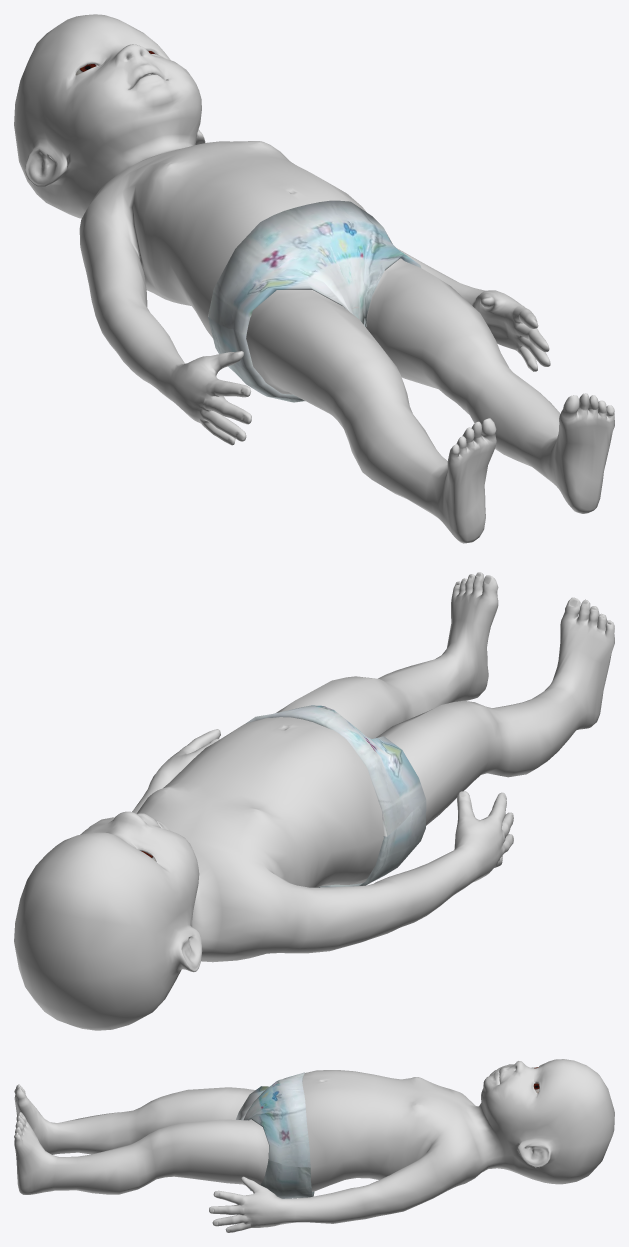
Rendered from Kid.fbx.
3 views of the same model, one above another, from view 1: azimuth 30°, elevation 25°; view 2: azimuth 150°, elevation 25°; view 3: azimuth 270°, elevation 25° (orthographic). The views are drawn at different scales.
Parts seen in each view (by area): view 1: high-polyMesh; view 2: high-polyMesh; view 3: high-polyMesh.
Part boxes in pixels (<box>): high-polyMesh: <box>14,14,614,543</box>; high-polyMesh: <box>14,572,614,1030</box>; high-polyMesh: <box>14,1059,614,1232</box>.
Size of the model in its own units: 27.83 by 15.71 by 68.93.
3 materials, 2 textured.
